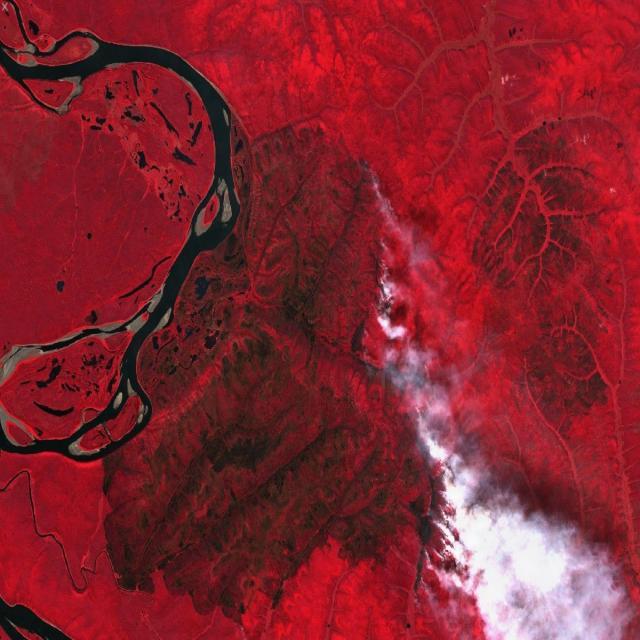fire: (378, 358, 463, 605), (365, 246, 407, 344)
